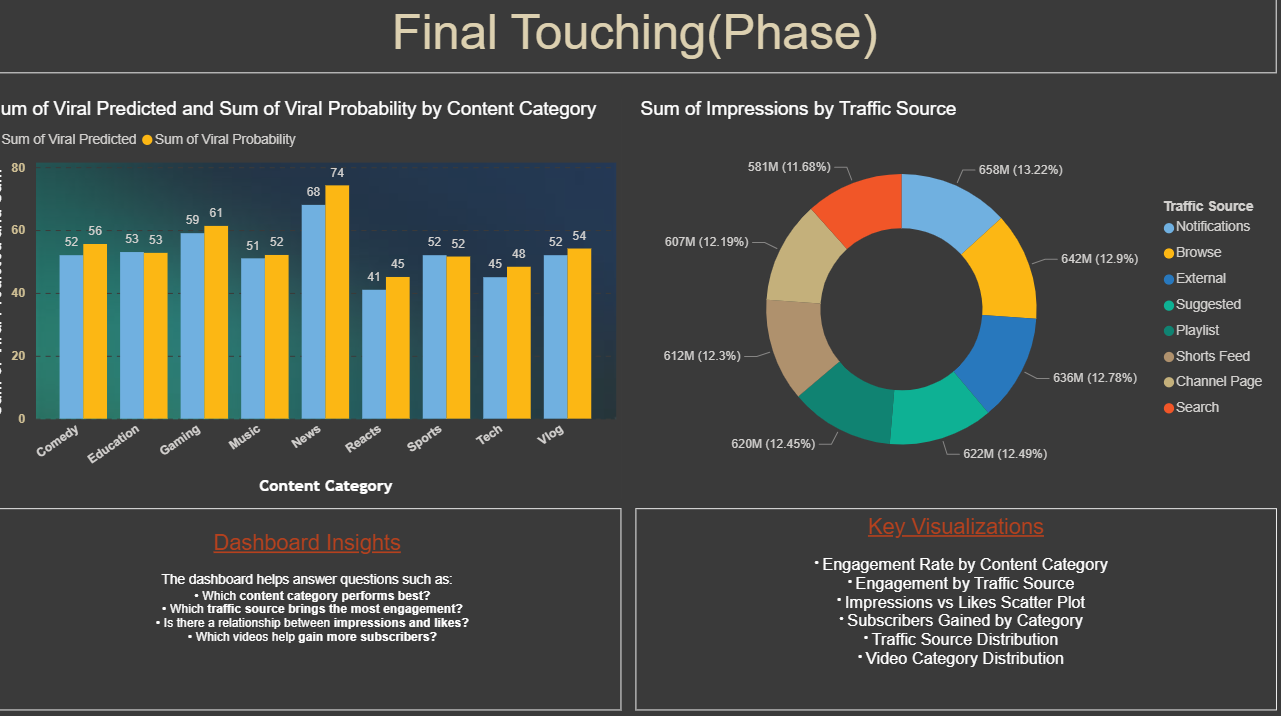

The dashboard page shown, as its layout file describes it:
{"tool":"powerbi","page":{"name":"Page 5","canvas":[1280,720],"ordinal":4},"visuals":[{"type":"clusteredColumnChart","fields":{"Category":["youtube_final_cleaned_ml_report.content_category","youtube_final_cleaned_ml_report.viral_actual"],"Y":["Sum(youtube_final_cleaned_ml_report.viral_predicted)","Sum(youtube_final_cleaned_ml_report.viral_probability)"]},"box":[0,109.2,627,393.9],"z":0},{"type":"donutChart","fields":{"Category":["youtube_final_cleaned_ml_report.traffic_source"],"Y":["Sum(youtube_final_cleaned_ml_report.impressions)"]},"box":[640.5,109.2,629.5,393.9],"z":1000},{"type":"textbox","box":[9.8,511.7,617.2,198.8],"z":2000},{"type":"textbox","box":[640.5,511.7,629.5,198.8],"z":3000},{"type":"textbox","box":[9.8,11,1260.1,73.6],"z":4000}]}

Visuals, with their boxes in screenshot pixels (x1, y1, x2, y2), scaled from the page's 1280x720 canvas onto the 1281x716 screenshot:
clusteredColumnChart - youtube_final_cleaned_ml_report.content_category x youtube_final_cleaned_ml_report.viral_actual: pyautogui.locateOnScreen(0, 109, 627, 500)
donutChart - youtube_final_cleaned_ml_report.traffic_source x Sum(youtube_final_cleaned_ml_report.impressions): pyautogui.locateOnScreen(641, 109, 1271, 500)
textbox: pyautogui.locateOnScreen(10, 509, 627, 707)
textbox: pyautogui.locateOnScreen(641, 509, 1271, 707)
textbox: pyautogui.locateOnScreen(10, 11, 1271, 84)
